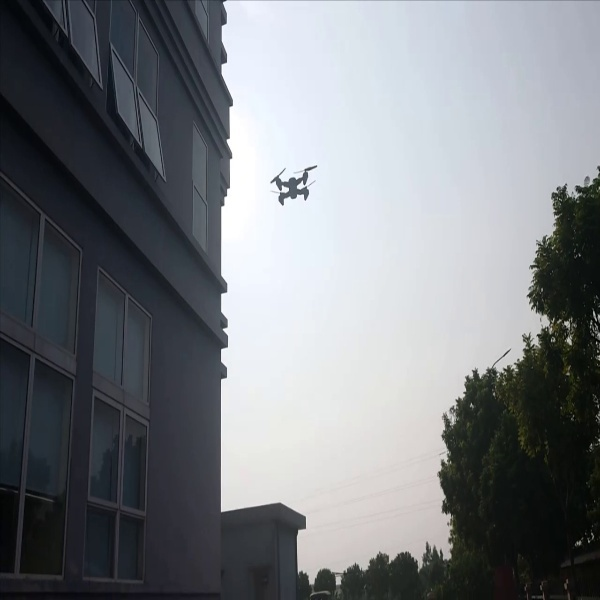drone: (264, 158, 319, 213)
